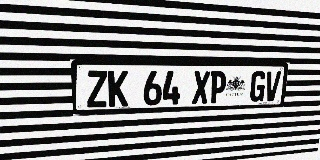4: (162, 71, 181, 105)
6: (143, 71, 162, 106)
G: (249, 71, 267, 102)
K: (108, 71, 128, 107)
P: (209, 71, 227, 103)
V: (264, 71, 281, 101)
X: (192, 71, 210, 104)
Z: (86, 71, 108, 108)
